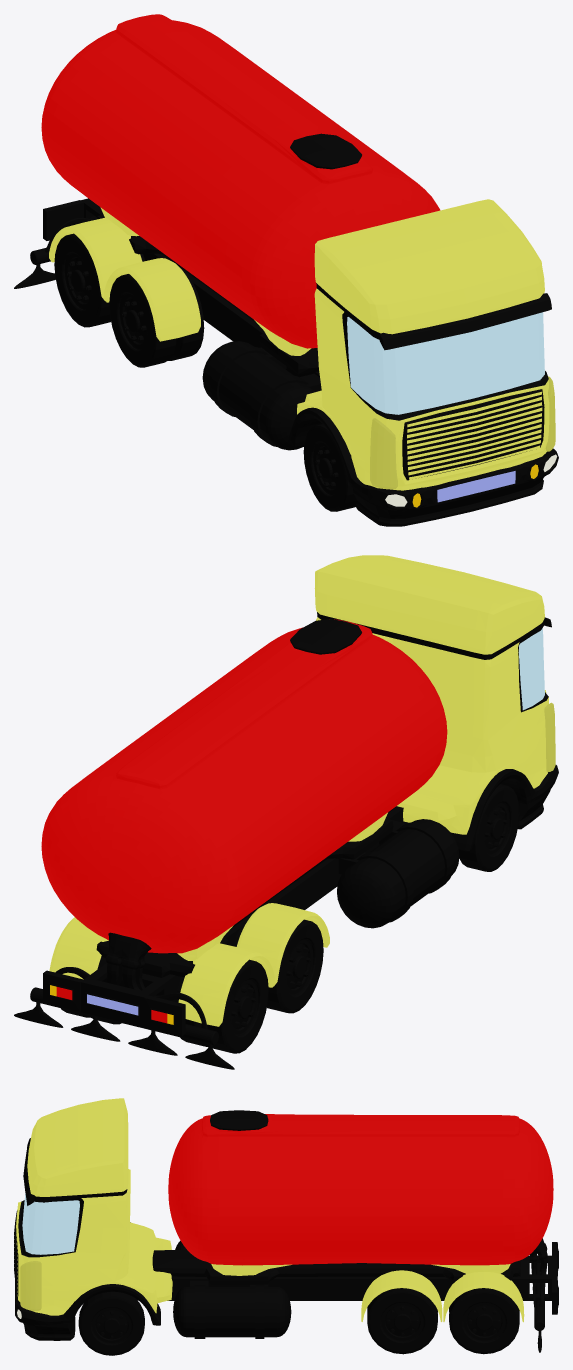
The model's file is newtruck.fbx.
3 views of the same model, one above another, from view 1: azimuth 30°, elevation 25°; view 2: azimuth 150°, elevation 25°; view 3: azimuth 270°, elevation 25° (orthographic). The views are drawn at different scales.
Visible parts, largest first — view 1: voorlicht_tank, lak2_lak, donker_gri_donker_gri, kenteken_donker_grijs, remlicht_raam, donker_gri_chrome, raam_lak2, zwart_zwart, knipperlic_kenteken; view 2: voorlicht_tank, lak2_lak, kenteken_donker_grijs, donker_gri_donker_gri, donker_gri_chrome, zwart_zwart, remlicht_raam, raam_lak2; view 3: voorlicht_tank, lak2_lak, kenteken_donker_grijs, donker_gri_donker_gri, donker_gri_chrome, zwart_zwart, remlicht_raam, raam_lak2.
Part boxes in pixels (left/top/right/bottom): voorlicht_tank: left=41, top=14, right=440, bottom=348; lak2_lak: left=49, top=199, right=549, bottom=490; donker_gri_donker_gri: left=72, top=270, right=558, bottom=526; kenteken_donker_grijs: left=43, top=198, right=539, bottom=511; remlicht_raam: left=347, top=312, right=544, bottom=414; donker_gri_chrome: left=14, top=133, right=361, bottom=494; raam_lak2: left=370, top=376, right=555, bottom=489; zwart_zwart: left=97, top=214, right=519, bottom=503; knipperlic_kenteken: left=437, top=471, right=515, bottom=502; voorlicht_tank: left=41, top=619, right=447, bottom=953; lak2_lak: left=49, top=555, right=548, bottom=1026; kenteken_donker_grijs: left=43, top=612, right=544, bottom=1053; donker_gri_donker_gri: left=105, top=617, right=558, bottom=1018; donker_gri_chrome: left=14, top=619, right=509, bottom=1069; zwart_zwart: left=96, top=806, right=396, bottom=977; remlicht_raam: left=518, top=628, right=544, bottom=710; raam_lak2: left=544, top=702, right=555, bottom=772; voorlicht_tank: left=168, top=1114, right=553, bottom=1265; lak2_lak: left=16, top=1098, right=524, bottom=1322; kenteken_donker_grijs: left=27, top=1168, right=558, bottom=1355; donker_gri_donker_gri: left=14, top=1138, right=547, bottom=1340; donker_gri_chrome: left=91, top=1110, right=545, bottom=1352; zwart_zwart: left=152, top=1249, right=520, bottom=1284; remlicht_raam: left=22, top=1193, right=79, bottom=1254; raam_lak2: left=20, top=1261, right=41, bottom=1310.
Size of the model in its own units: 5.34 by 6.37 by 15.31.
